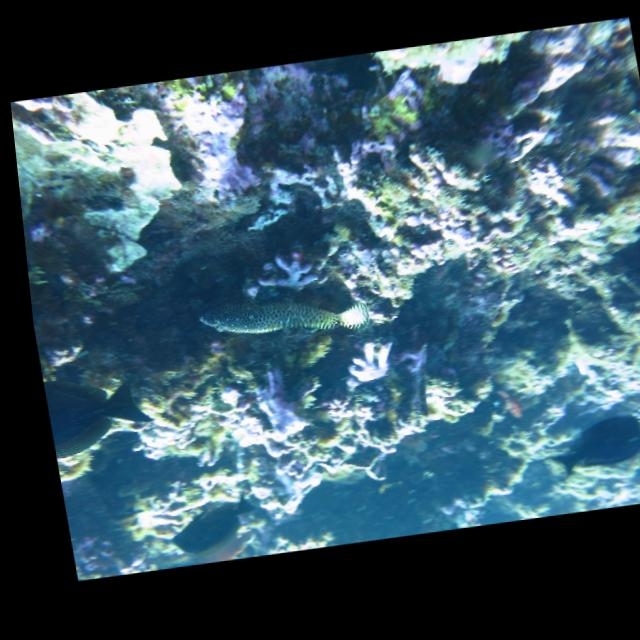Groupers: (193, 281, 374, 354)
